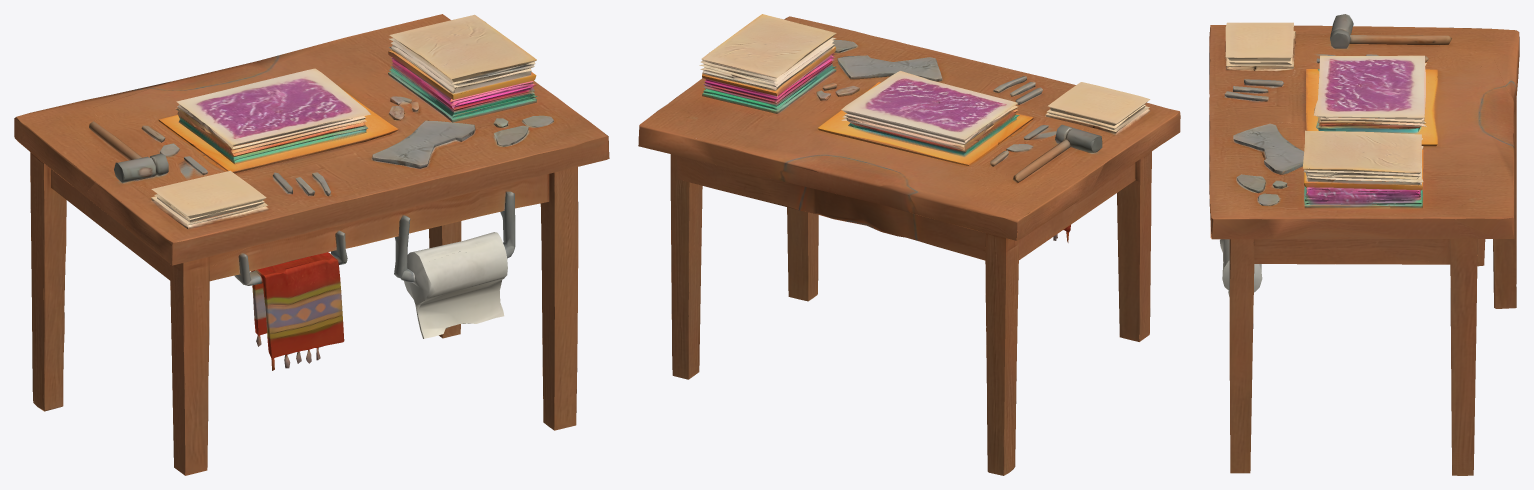
The model's file is mesaArtesano.obj.
3 views of the same model, side by side, from view 1: azimuth 30°, elevation 25°; view 2: azimuth 150°, elevation 25°; view 3: azimuth 270°, elevation 25° (orthographic). The views are drawn at different scales.
Parts seen in each view (by area): view 1: mesaArtesano; view 2: mesaArtesano; view 3: mesaArtesano.
Part boxes in pixels (x1,y1,x2,y2): mesaArtesano: [14, 14, 609, 475]; mesaArtesano: [638, 14, 1180, 475]; mesaArtesano: [1209, 14, 1519, 475].
Size of the model in its own units: 1.45 by 1.06 by 0.9773.
Materials: 1 (1 with a texture image).
